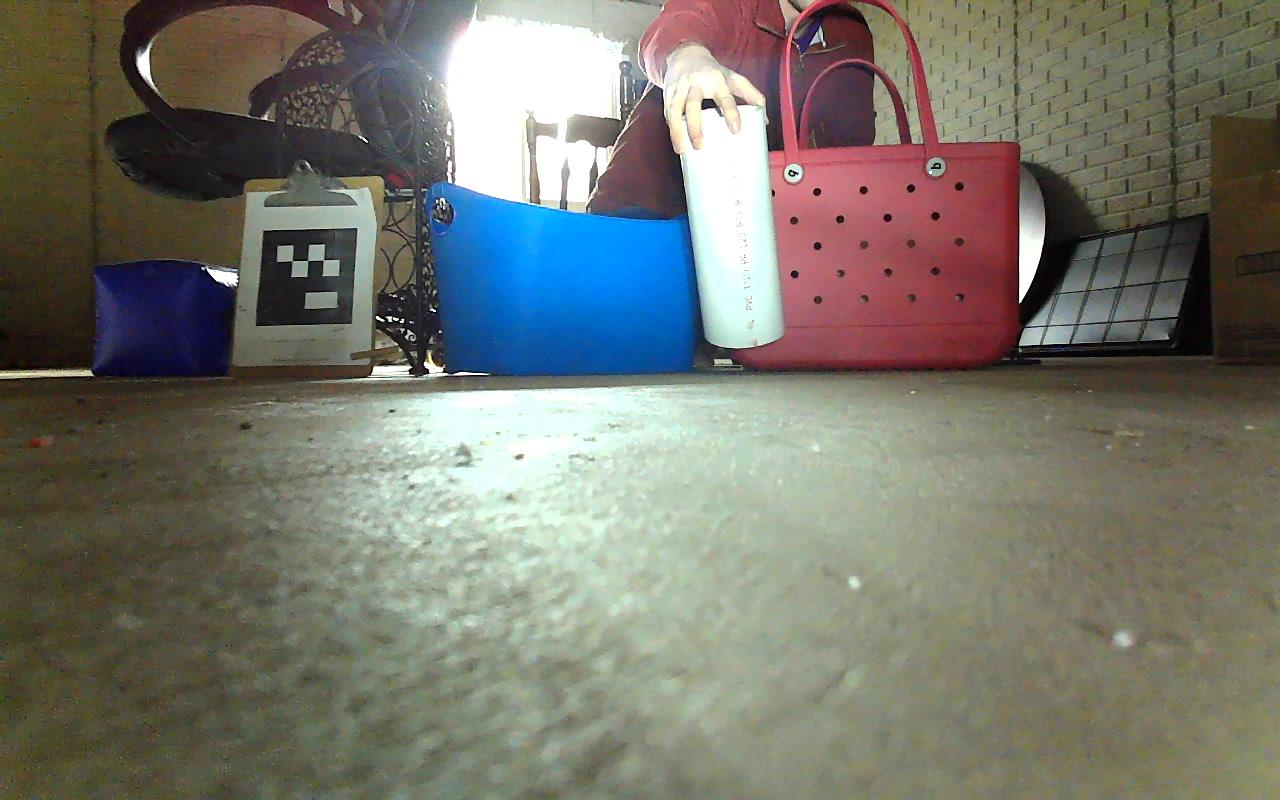coral: (668, 105, 786, 348)
